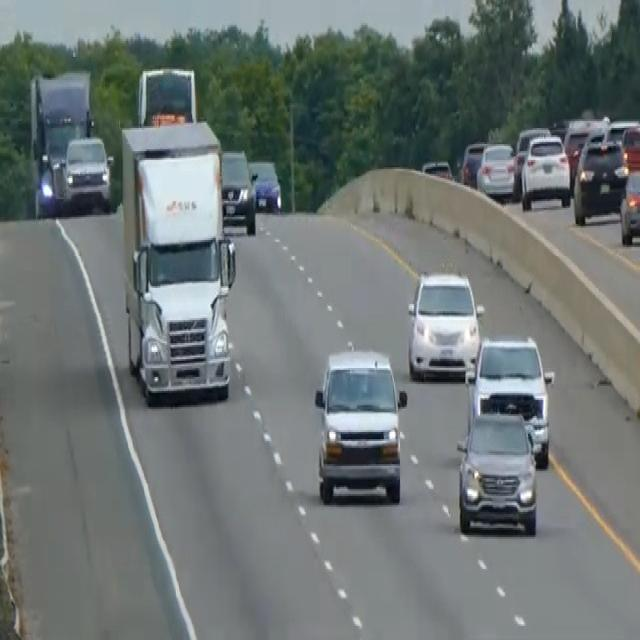car: (464, 334, 554, 468), (455, 407, 538, 535), (406, 266, 483, 381), (573, 135, 628, 224), (519, 132, 571, 212), (62, 133, 113, 210), (135, 64, 197, 126), (563, 116, 608, 192), (220, 148, 256, 235), (511, 123, 551, 197), (476, 139, 515, 201), (248, 156, 282, 214), (618, 166, 639, 246), (460, 138, 487, 186), (602, 116, 639, 150), (620, 122, 639, 172), (421, 156, 453, 180)
lorry: (119, 116, 236, 406)
minivan: (311, 343, 408, 507)
